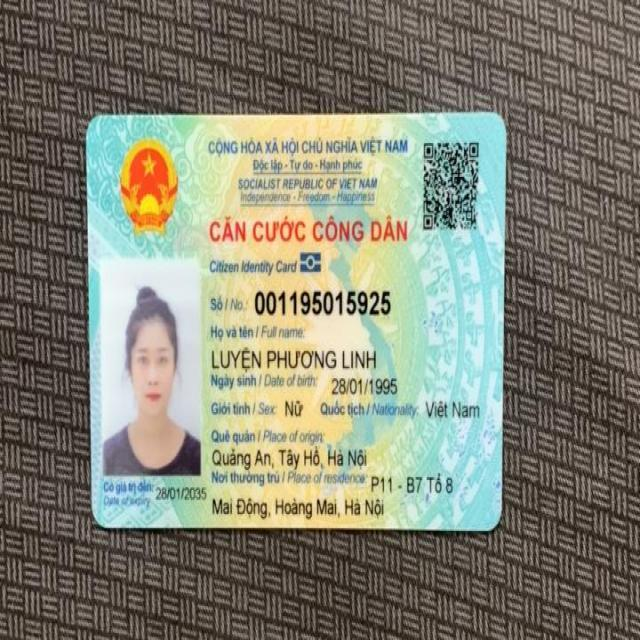bottom_left: (80, 495, 121, 539)
bottom_right: (481, 496, 518, 541)
image_person: (106, 262, 210, 474)
top_left: (68, 102, 120, 142)
top_right: (478, 99, 518, 140)
